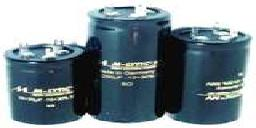Electrolytic Capacitor: (86, 2, 174, 128), (174, 18, 252, 128), (4, 37, 85, 128)
